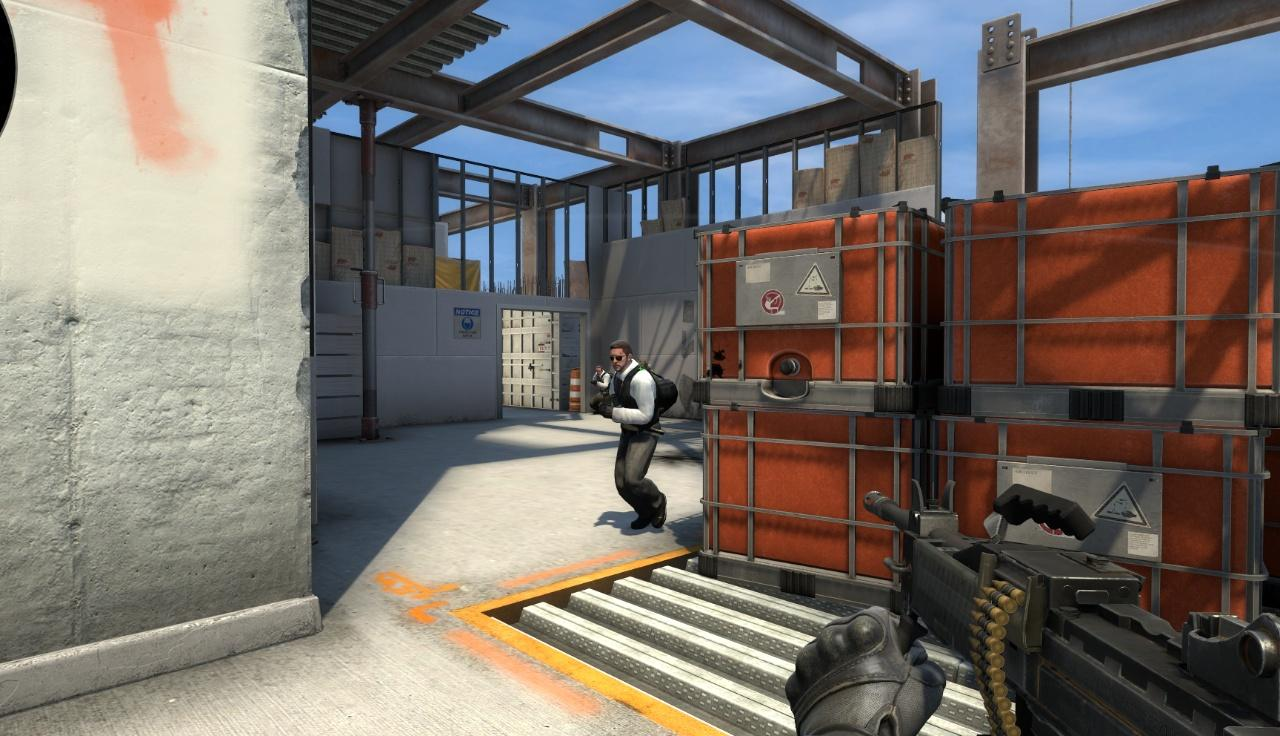rifle: (846, 470, 1280, 736)
tt: (602, 339, 667, 527), (590, 366, 610, 414)
tthead: (609, 341, 632, 370), (596, 366, 603, 375)
